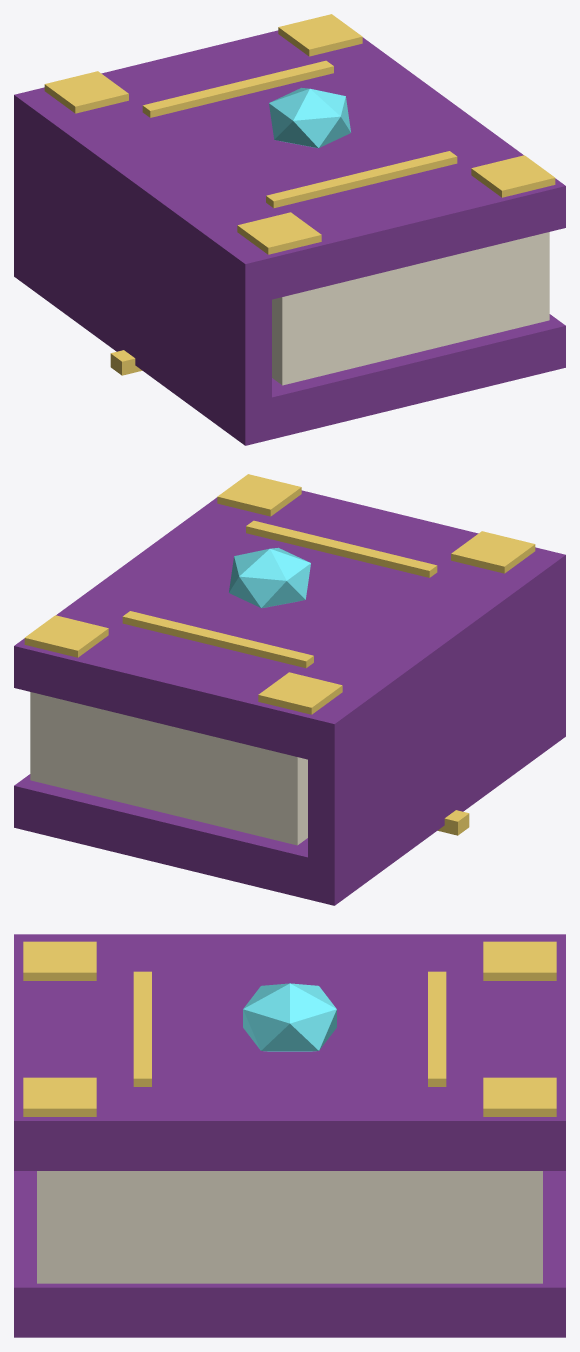
The model's file is Grimoire.fbx.
The picture shows the model from 3 angles, top to bottom: view 1: azimuth 30°, elevation 25°; view 2: azimuth 150°, elevation 25°; view 3: azimuth 270°, elevation 25°; orthographic projection. The views are drawn at different scales.
Visible parts, largest first — view 1: Grimoire_Cover, Grimoire_Pages, Grimoire_Gold, Grimoire_Gem; view 2: Grimoire_Cover, Grimoire_Pages, Grimoire_Gold, Grimoire_Gem; view 3: Grimoire_Cover, Grimoire_Pages, Grimoire_Gold, Grimoire_Gem.
Part boxes in pixels (x1,y1,x2,y2): Grimoire_Cover: [14, 30, 565, 445]; Grimoire_Pages: [272, 232, 549, 385]; Grimoire_Gold: [44, 14, 555, 375]; Grimoire_Gem: [269, 87, 350, 148]; Grimoire_Cover: [14, 490, 565, 905]; Grimoire_Pages: [30, 692, 307, 845]; Grimoire_Gold: [24, 474, 535, 835]; Grimoire_Gem: [229, 547, 310, 608]; Grimoire_Cover: [14, 934, 565, 1337]; Grimoire_Pages: [37, 1171, 542, 1283]; Grimoire_Gold: [23, 941, 556, 1116]; Grimoire_Gem: [243, 983, 336, 1051].
Size of the model in its own units: 100 by 67.4 by 120.
